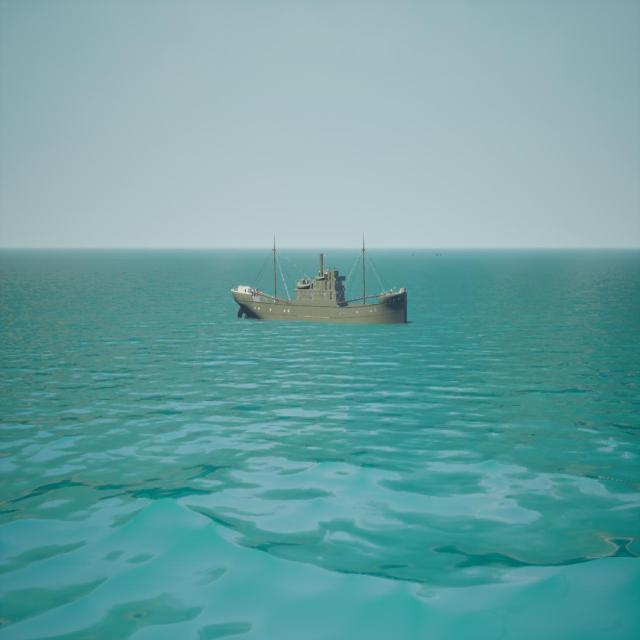fishing ship: (230, 236, 410, 325)
